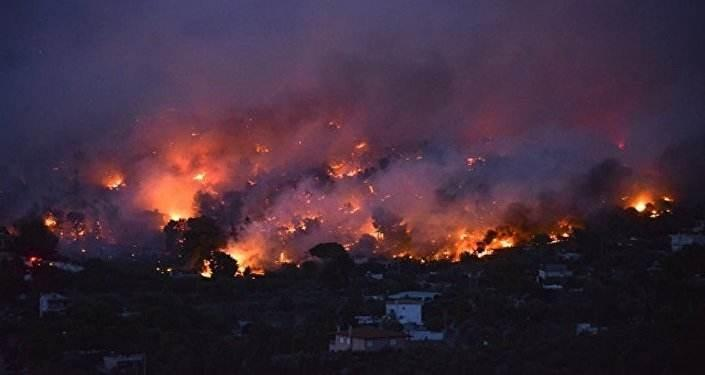fire: (45, 121, 674, 269)
